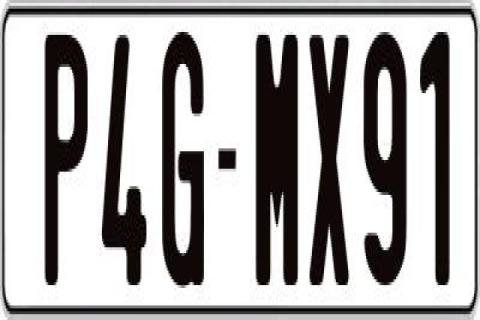0: (361, 24, 410, 294), (100, 29, 150, 279), (419, 32, 453, 302)
G: (160, 24, 208, 288)
M: (255, 35, 302, 291)
P: (45, 29, 95, 279)
X: (310, 35, 352, 285)
